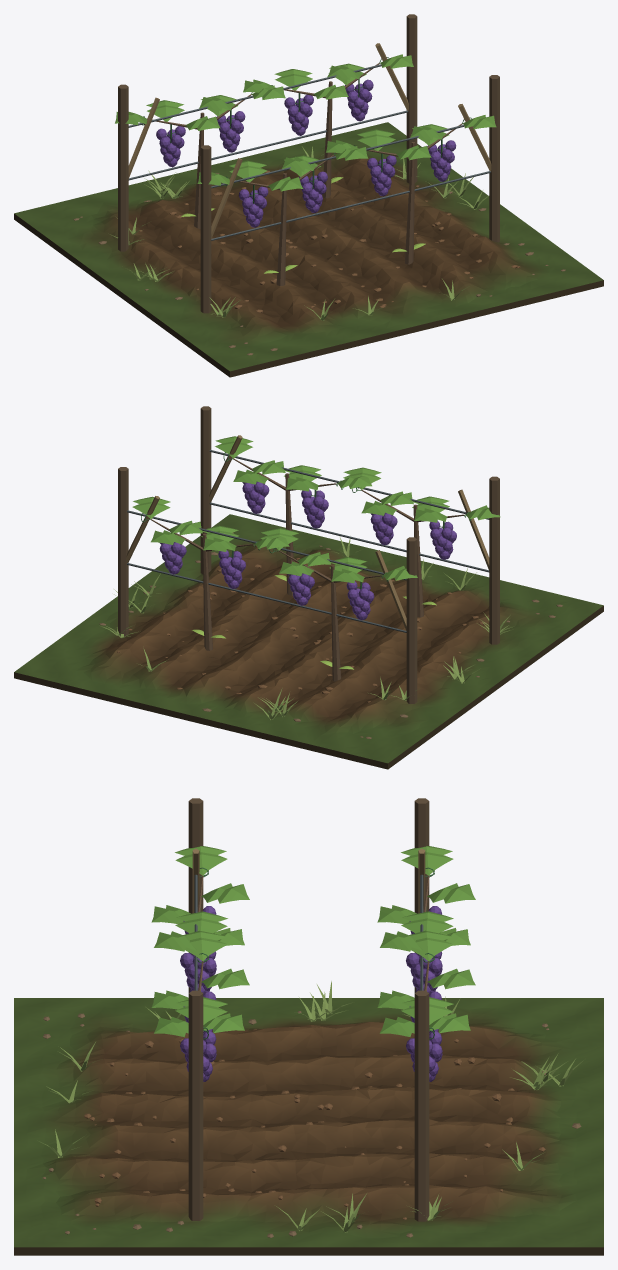
File: vineyard.glb
3 views of the same model, one above another, from view 1: azimuth 30°, elevation 25°; view 2: azimuth 150°, elevation 25°; view 3: azimuth 270°, elevation 25° (orthographic). The views are drawn at different scales.
Parts seen in each view (by area): view 1: Static_mesh, GrapeCluster.004_mesh, GrapeCluster.006_mesh, GrapeCluster.002_mesh, GrapeCluster_mesh, GrapeCluster.001_mesh, GrapeCluster.007_mesh, VineTrunk.001_mesh, GrapeCluster.003_mesh, GrapeCluster.005_mesh, VineTrunk_mesh, VineTrunk.003_mesh (+3 smaller); view 2: Static_mesh, VineTrunk.003_mesh, VineTrunk.002_mesh, GrapeCluster.004_mesh, GrapeCluster_mesh, GrapeCluster.006_mesh, GrapeCluster.002_mesh, GrapeCluster.003_mesh, GrapeCluster.005_mesh, GrapeCluster.007_mesh, GrapeCluster.001_mesh, VineTrunk_mesh (+1 smaller); view 3: Static_mesh, GrapeCluster.001_mesh, GrapeCluster.005_mesh, VineLeaf.004_mesh, VineLeaf.016_mesh, VineLeaf.014_mesh, VineLeaf.002_mesh, VineLeaf.020_mesh, VineLeaf.008_mesh, GrapeCluster.003_mesh, GrapeCluster.007_mesh, VineLeaf.019_mesh (+3 smaller).
Boxes of the visible parts, left/top/right/bottom form: Static_mesh: left=14, top=14, right=603, bottom=377; GrapeCluster.004_mesh: left=156, top=126, right=185, bottom=167; GrapeCluster.006_mesh: left=284, top=94, right=313, bottom=135; GrapeCluster.002_mesh: left=367, top=155, right=396, bottom=196; GrapeCluster_mesh: left=238, top=186, right=268, bottom=227; GrapeCluster.001_mesh: left=299, top=171, right=327, bottom=213; GrapeCluster.007_mesh: left=345, top=79, right=373, bottom=121; VineTrunk.001_mesh: left=405, top=142, right=415, bottom=264; GrapeCluster.003_mesh: left=427, top=140, right=456, bottom=181; GrapeCluster.005_mesh: left=216, top=111, right=245, bottom=152; VineTrunk_mesh: left=276, top=173, right=286, bottom=285; VineTrunk.003_mesh: left=322, top=81, right=332, bottom=198; Static_mesh: left=14, top=406, right=603, bottom=769; VineTrunk.003_mesh: left=202, top=534, right=212, bottom=650; VineTrunk.002_mesh: left=331, top=565, right=341, bottom=681; GrapeCluster.004_mesh: left=346, top=581, right=374, bottom=620; GrapeCluster_mesh: left=429, top=520, right=456, bottom=559; GrapeCluster.006_mesh: left=218, top=550, right=245, bottom=588; GrapeCluster.002_mesh: left=301, top=489, right=328, bottom=528; GrapeCluster.003_mesh: left=242, top=481, right=269, bottom=513; GrapeCluster.005_mesh: left=288, top=573, right=314, bottom=605; GrapeCluster.007_mesh: left=159, top=542, right=186, bottom=574; GrapeCluster.001_mesh: left=370, top=512, right=397, bottom=545; VineTrunk_mesh: left=413, top=504, right=423, bottom=617; Static_mesh: left=14, top=798, right=603, bottom=1255; GrapeCluster.001_mesh: left=180, top=951, right=216, bottom=993; GrapeCluster.005_mesh: left=406, top=951, right=442, bottom=993; VineLeaf.004_mesh: left=175, top=911, right=227, bottom=933; VineLeaf.016_mesh: left=401, top=911, right=453, bottom=933; VineLeaf.014_mesh: left=401, top=846, right=453, bottom=875; VineLeaf.002_mesh: left=175, top=846, right=227, bottom=875; VineLeaf.020_mesh: left=409, top=930, right=453, bottom=960; VineLeaf.008_mesh: left=183, top=930, right=227, bottom=960; GrapeCluster.003_mesh: left=180, top=1031, right=216, bottom=1081; GrapeCluster.007_mesh: left=406, top=1031, right=442, bottom=1081; VineLeaf.019_mesh: left=427, top=968, right=475, bottom=989.
Bounding box in the file's own units: 3.5 × 1.53 × 3.5.
